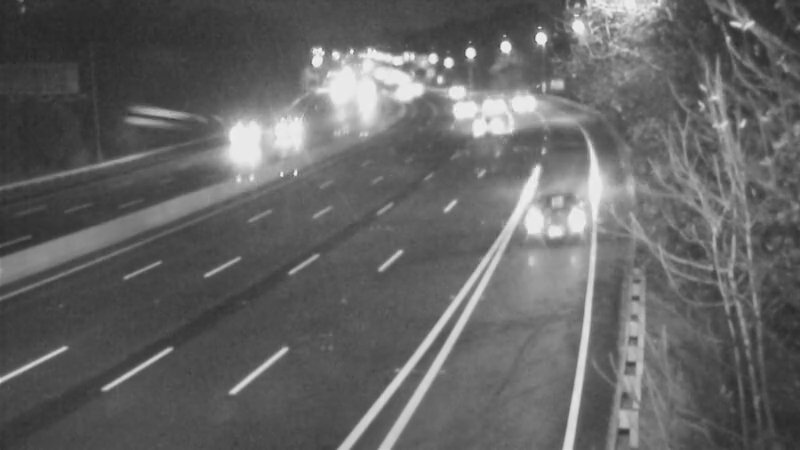vehicle: (522, 178, 602, 258), (427, 67, 477, 117), (378, 69, 428, 119), (496, 68, 546, 118), (465, 78, 515, 128), (442, 78, 492, 128), (460, 106, 510, 156), (221, 117, 271, 167), (253, 107, 303, 157)
